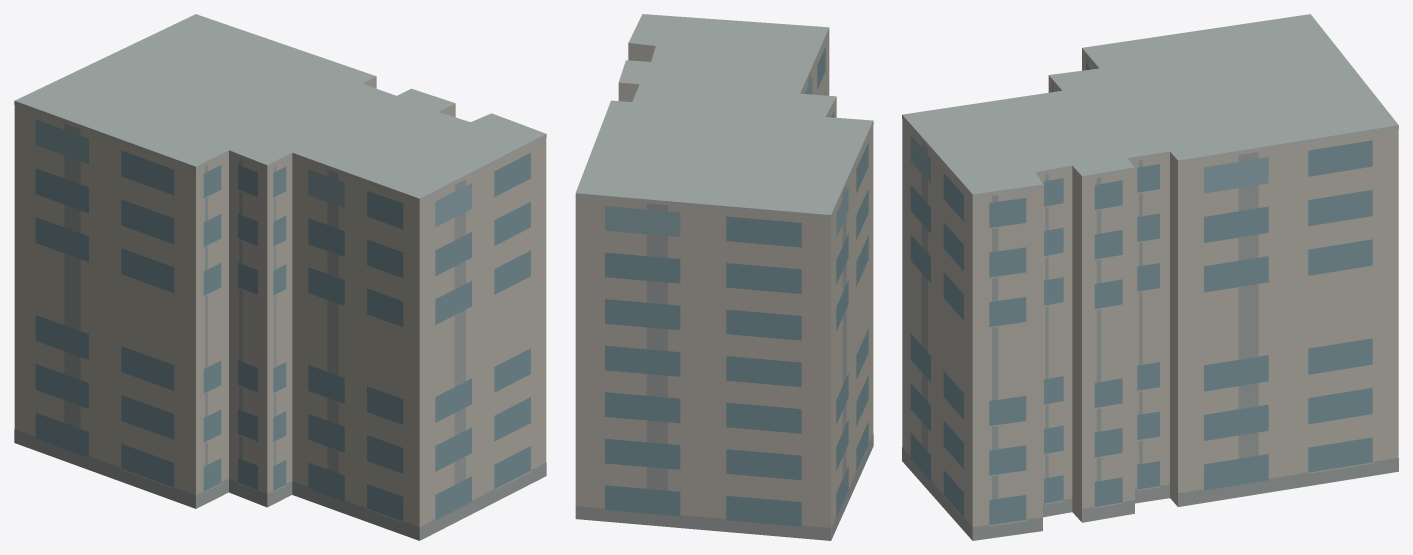
The model's file is survey-upis-32800601.glb.
3 renders of one model, left to right at view 1: azimuth 30°, elevation 25°; view 2: azimuth 150°, elevation 25°; view 3: azimuth 270°, elevation 25°, orthographic. The views are drawn at different scales.
Parts seen in each view (by area): view 1: survey-upis-32800601.tmp; view 2: survey-upis-32800601.tmp; view 3: survey-upis-32800601.tmp.
Part boxes in pixels (bbox=[...]): survey-upis-32800601.tmp: bbox=[14, 14, 546, 540]; survey-upis-32800601.tmp: bbox=[575, 14, 873, 540]; survey-upis-32800601.tmp: bbox=[902, 14, 1398, 540].
Bounding box in the file's own units: 22.06 × 19.75 × 25.66.
